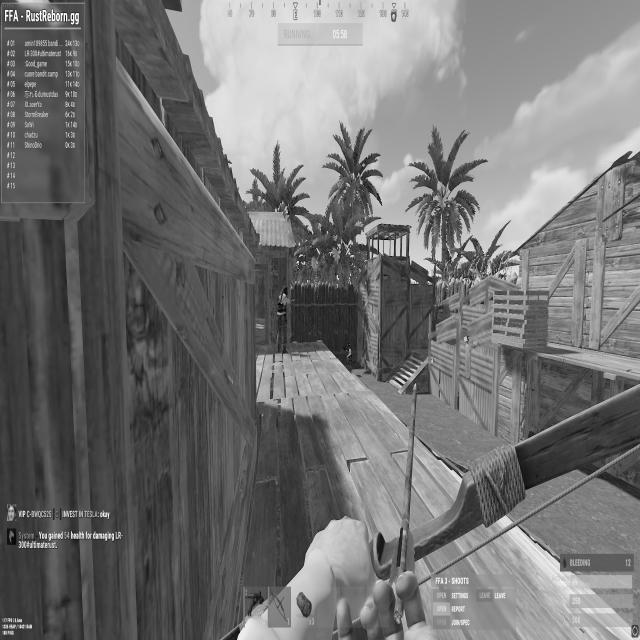Player: (276, 284, 290, 353), (345, 342, 353, 373), (282, 285, 288, 296), (346, 343, 351, 350)
